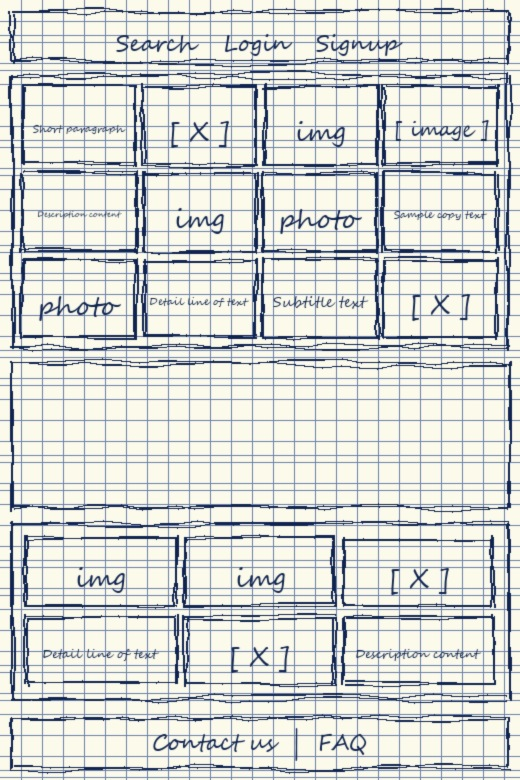card: (27, 538, 175, 605), (186, 538, 334, 605), (345, 538, 493, 605), (27, 617, 175, 684), (186, 617, 334, 684), (345, 617, 493, 684), (23, 86, 136, 165), (384, 86, 497, 165), (23, 259, 136, 338), (384, 259, 497, 338), (144, 86, 256, 165), (264, 86, 376, 165), (144, 259, 256, 338), (264, 259, 376, 338), (23, 173, 136, 251), (384, 173, 497, 251), (144, 173, 256, 251), (264, 173, 376, 251)
footer: (12, 718, 508, 768)
navbar: (12, 12, 508, 62)
section: (12, 75, 508, 349), (12, 523, 508, 699), (12, 363, 508, 509)
